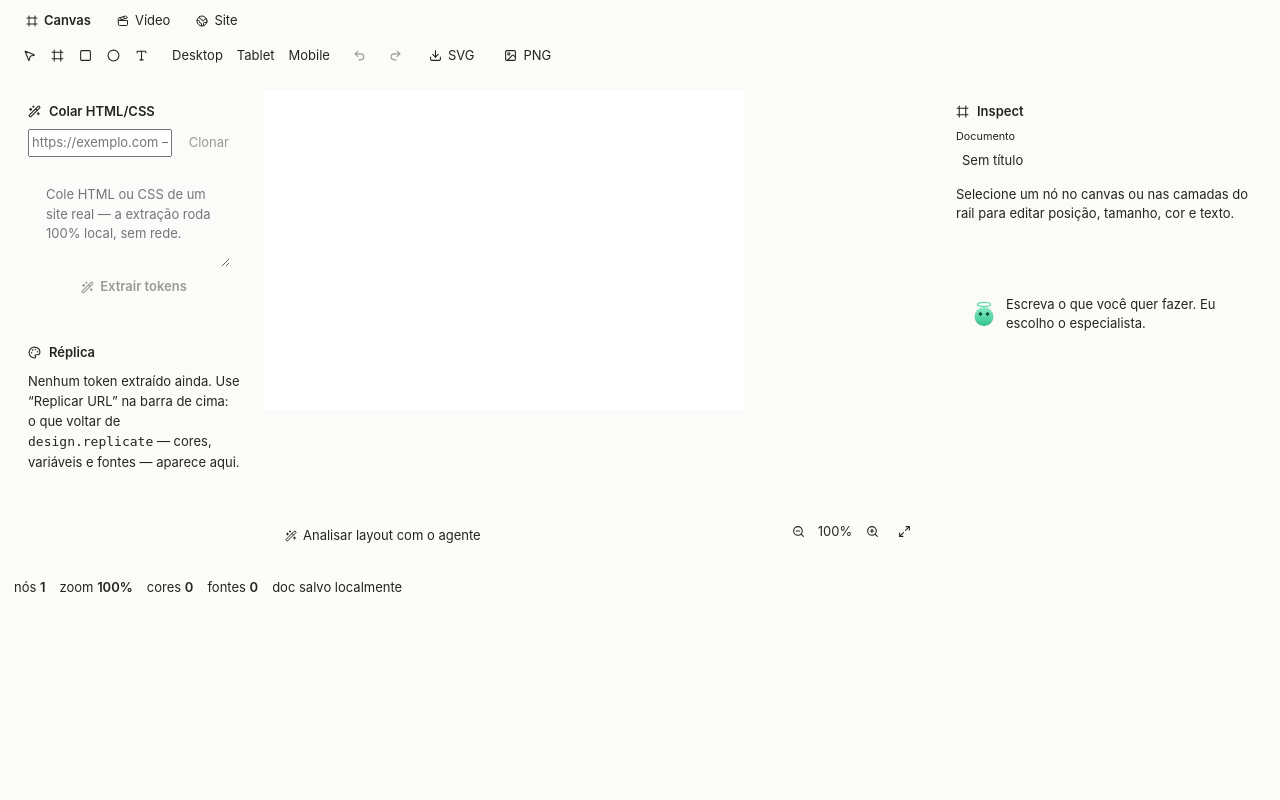
Scenario: as abas de estúdio › Canvas ativa; Vídeo e Site abrem os estúdios de verdade
Click the tab with class "studio-tab" showing "Vídeo". click: x=144, y=21
box: left=105, top=6, right=182, bottom=36
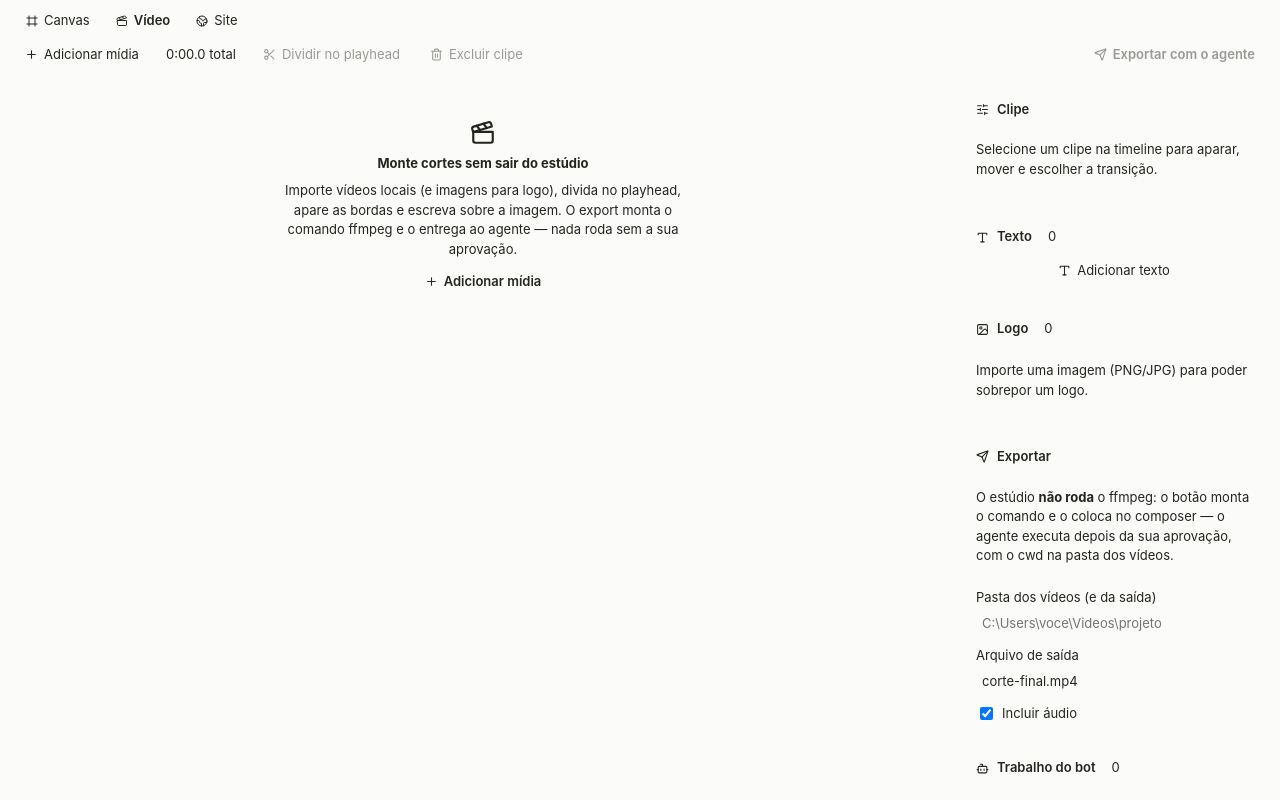
Expected: the element with class "cnv-editor" is gone
// Voltar ao Canvas restaura o editor — o documento seguiu vivo no store.
Click the tab with class "studio-tab" showing "Canvas". click: x=58, y=21
box: left=14, top=6, right=102, bottom=36
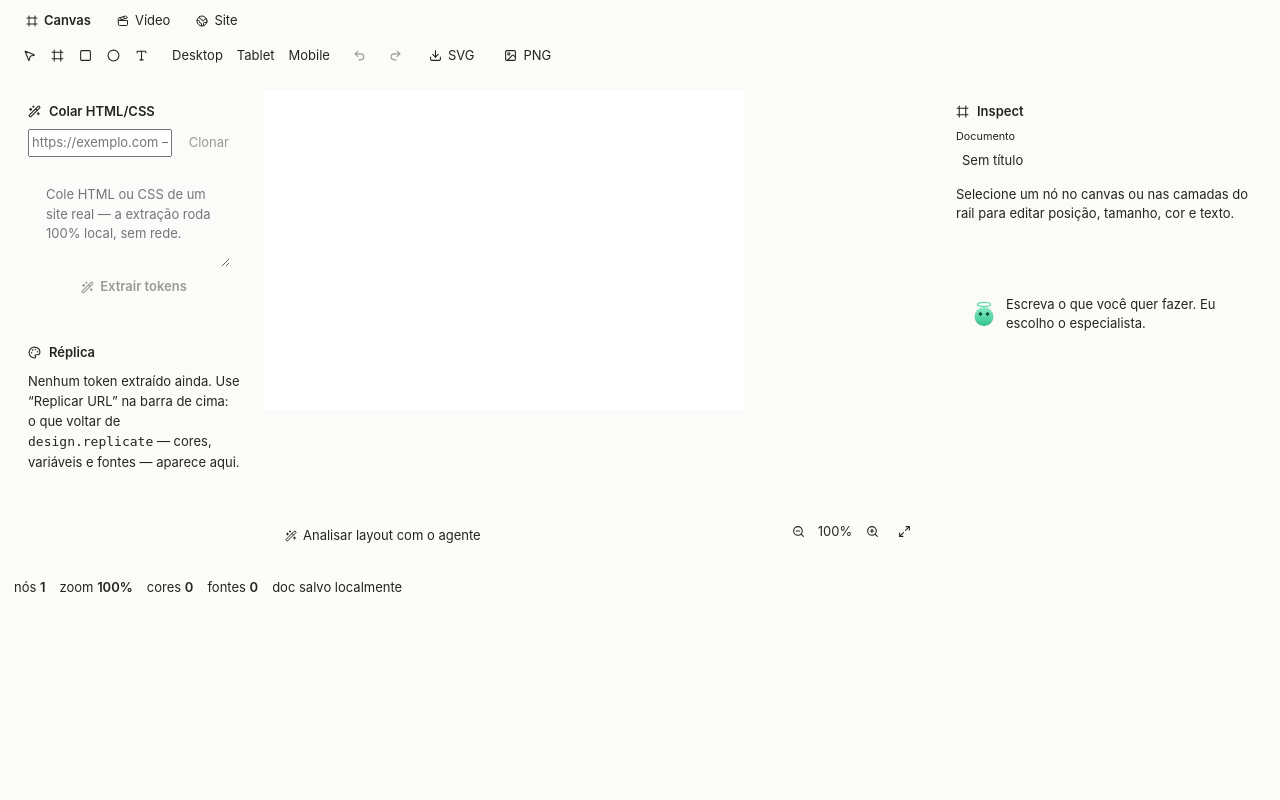
Expected: the element with class "cnv-editor" is shown, left=264, top=90, right=932, bottom=560
Click the tab with class "studio-tab" showing "Site". click: x=217, y=21
box: left=184, top=6, right=250, bottom=36
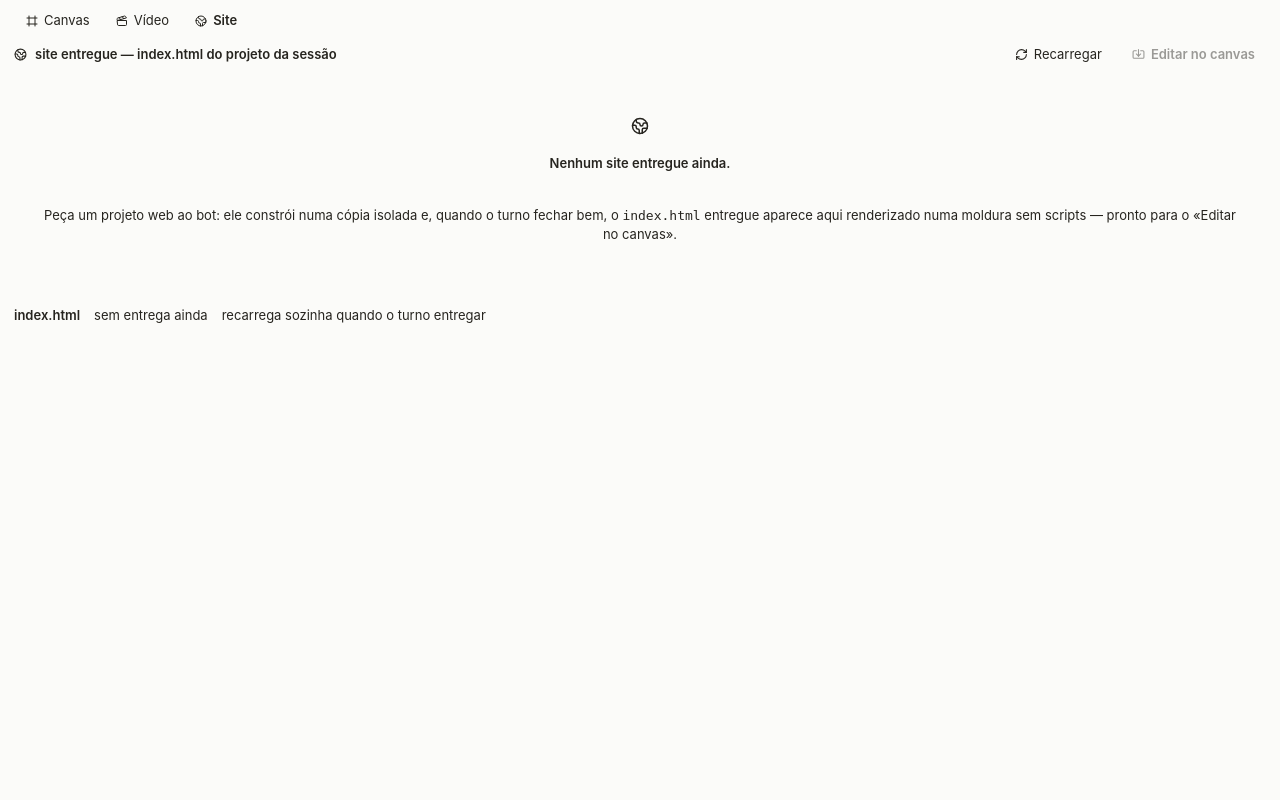
Expected: the element with class "site-studio" is shown, left=0, top=36, right=1279, bottom=329
Expected: the element with class "cnv-editor" is gone
Expected: the text "Nenhum site entregue ainda" is shown, left=550, top=155, right=730, bottom=171
